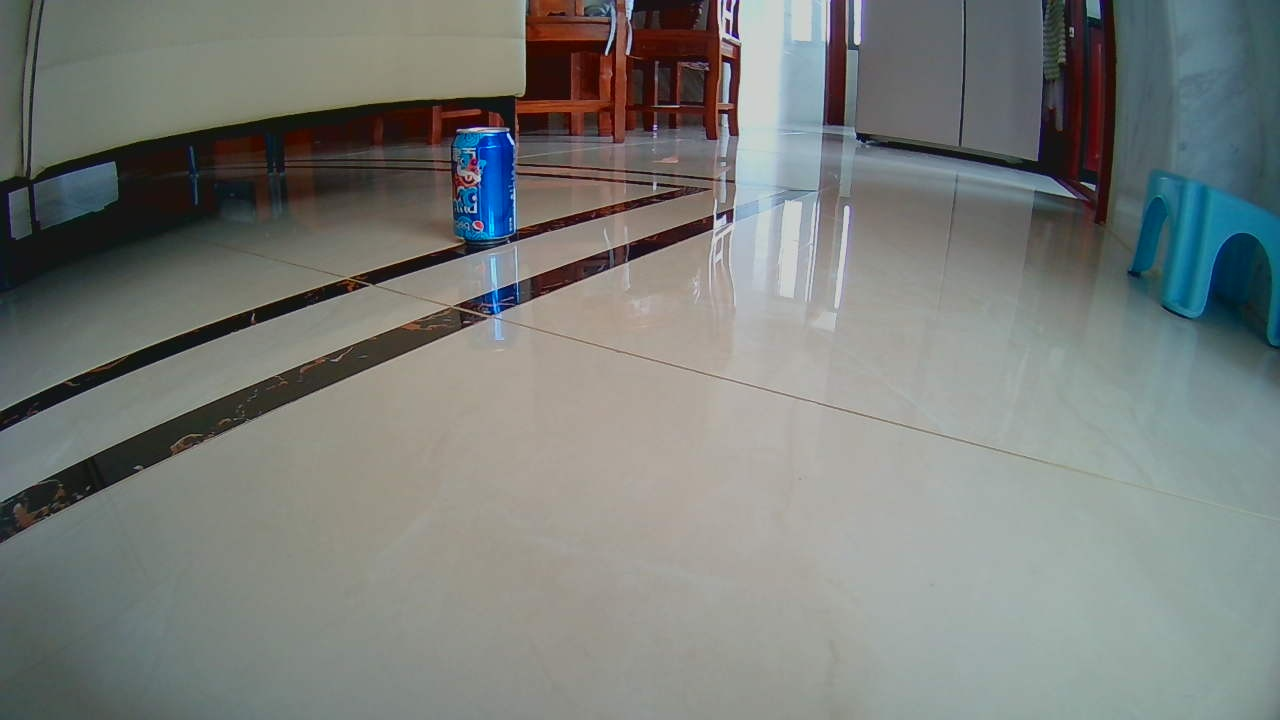pessi: (452, 128, 517, 248)
